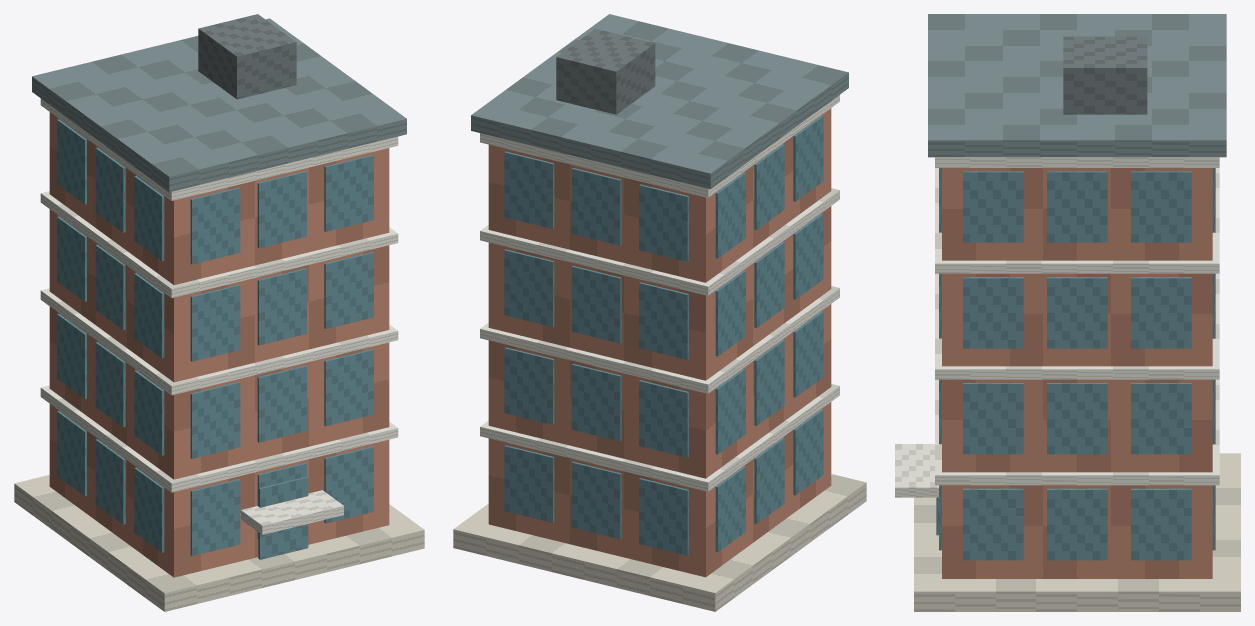
Rendered from townhouse.glb.
3 views of the same model, side by side, from view 1: azimuth 30°, elevation 25°; view 2: azimuth 150°, elevation 25°; view 3: azimuth 270°, elevation 25° (orthographic). The views are drawn at different scales.
Parts seen in each view (by area): view 1: Main structure, Facade glazing (×12), Roof cap, Side glazing (×12), Cornice (×4), Foundation, Roof service room, Entry canopy, Entry door; view 2: Main structure, Facade glazing (×12), Roof cap, Side glazing (×12), Cornice (×4), Foundation, Roof service room; view 3: Side glazing (×12), Main structure, Roof cap, Cornice (×4), Foundation, Roof service room, Entry canopy.
Part boxes in pixels (x1,y1,x2,y2): Main structure: (49, 112, 389, 577); Facade glazing (×12): (190, 154, 373, 555); Roof cap: (32, 18, 406, 192); Side glazing (×12): (57, 119, 164, 552); Cornice (×4): (40, 98, 398, 492); Foundation: (14, 475, 424, 611); Roof service room: (198, 14, 296, 99); Entry canopy: (241, 490, 343, 534); Entry door: (258, 476, 308, 559); Main structure: (488, 108, 831, 577); Facade glazing (×12): (504, 151, 688, 555); Roof cap: (471, 14, 848, 189); Side glazing (×12): (715, 115, 823, 552); Cornice (×4): (480, 95, 839, 491); Foundation: (453, 474, 866, 611); Roof service room: (556, 28, 655, 114); Side glazing (×12): (963, 171, 1191, 560); Main structure: (942, 168, 1212, 578); Roof cap: (928, 14, 1226, 157); Cornice (×4): (935, 157, 1219, 485); Foundation: (914, 453, 1240, 611); Roof service room: (1063, 36, 1147, 114); Entry canopy: (895, 444, 938, 497).
Size of the model in its own units: 3.5 by 6.05 by 3.7.
6 materials, 6 textured.
